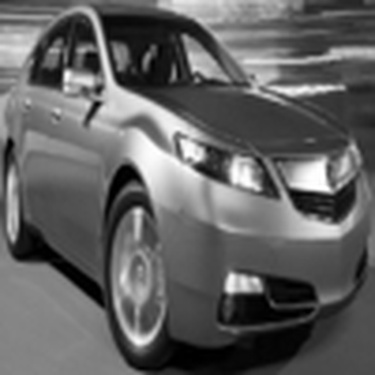car: (1, 8, 368, 368)
